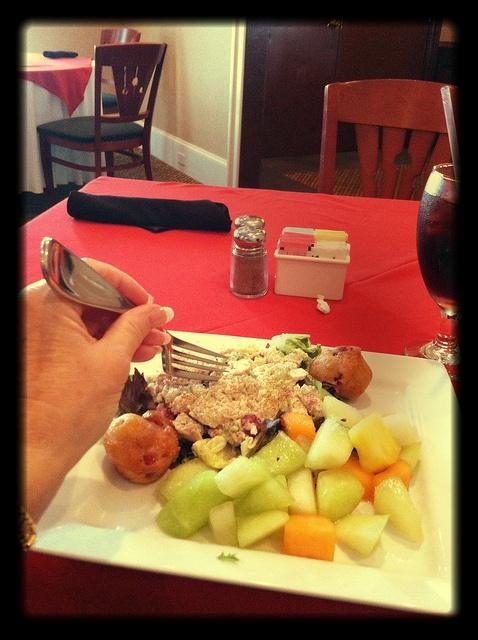Kursi: (34, 41, 166, 197)
